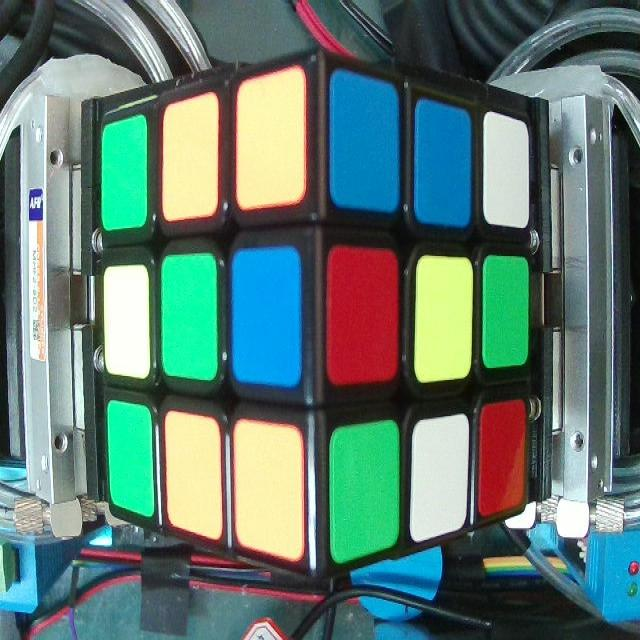b: (333, 70, 399, 208), (238, 256, 298, 378), (415, 100, 472, 224)
g: (332, 428, 400, 558), (163, 256, 216, 381), (107, 404, 153, 514), (103, 124, 147, 230), (488, 264, 530, 366)
o: (234, 418, 304, 554), (239, 84, 303, 210), (168, 418, 222, 533), (166, 104, 217, 219)
r: (328, 250, 393, 383), (481, 408, 526, 511)
w: (414, 426, 463, 532), (483, 114, 529, 226), (102, 266, 146, 380)
y: (420, 262, 472, 377)
